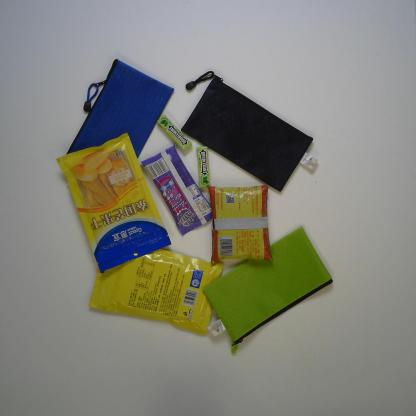Candy: (140, 144, 215, 236)
Dried Fruit: (54, 132, 172, 274), (87, 242, 225, 337)
Gum: (156, 114, 192, 152), (196, 146, 211, 188)
Seasoner: (206, 184, 274, 265)
Stationery: (202, 226, 333, 357), (180, 70, 319, 193), (64, 58, 174, 176)
